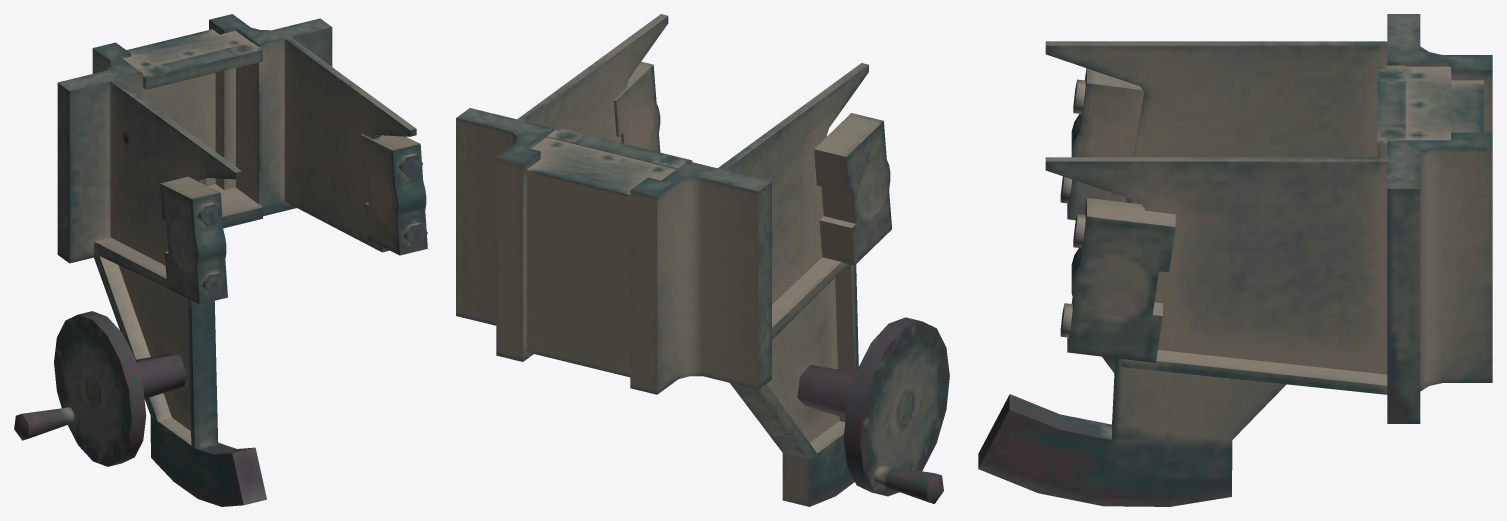
File: Turret_01.glb
The picture shows the model from 3 angles, left to right: view 1: azimuth 30°, elevation 25°; view 2: azimuth 150°, elevation 25°; view 3: azimuth 270°, elevation 25°; orthographic projection. The views are drawn at different scales.
Parts seen in each view (by area): view 1: set_0_group_0; view 2: set_0_group_0; view 3: set_0_group_0.
Part boxes in pixels (x1,y1,x2,y2): set_0_group_0: (14,14,427,506); set_0_group_0: (456,14,949,506); set_0_group_0: (978,14,1492,506).
Bounding box in the file's own units: 0.3477 × 0.3074 × 0.3105.
1 material, 1 textured.
